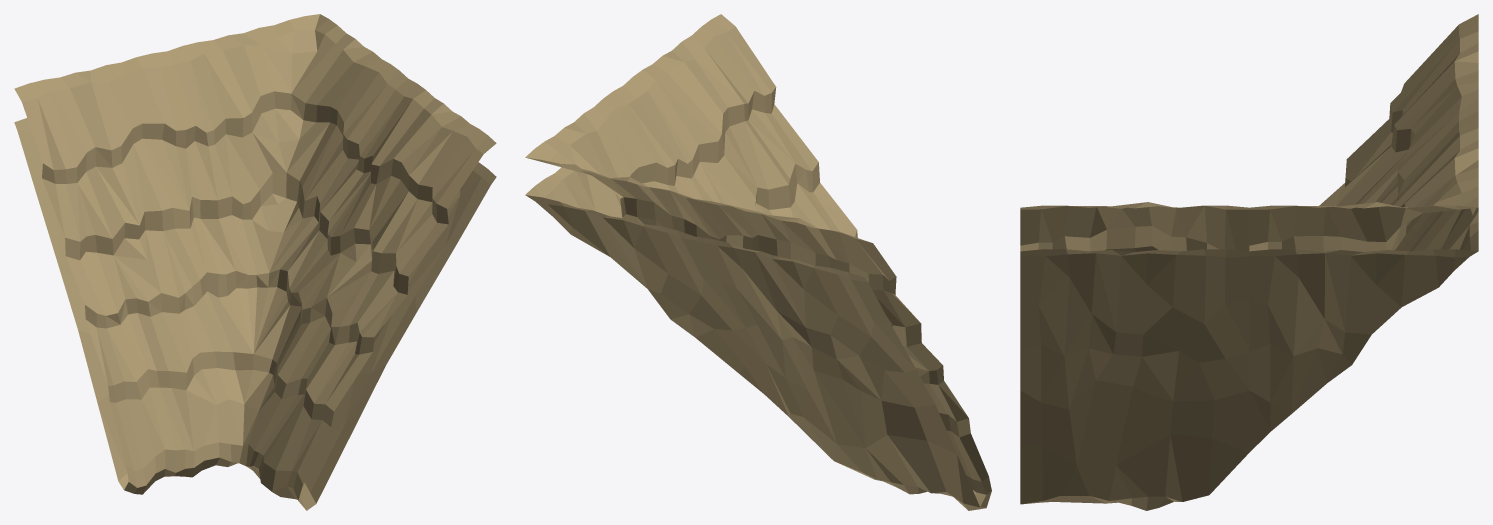
Rendered from rpgpp_ag_roof_02_6x5x3_corner_01.fbx.
3 renders of one model, left to right at view 1: azimuth 30°, elevation 25°; view 2: azimuth 150°, elevation 25°; view 3: azimuth 270°, elevation 25°, orthographic. The views are drawn at different scales.
Visible parts, largest first — view 1: rpgpp_ag_roof_02_6x5x3_corner_01; view 2: rpgpp_ag_roof_02_6x5x3_corner_01; view 3: rpgpp_ag_roof_02_6x5x3_corner_01.
Part boxes in pixels (x1=…): rpgpp_ag_roof_02_6x5x3_corner_01: x1=14, y1=14, x2=496, y2=510; rpgpp_ag_roof_02_6x5x3_corner_01: x1=525, y1=14, x2=991, y2=510; rpgpp_ag_roof_02_6x5x3_corner_01: x1=1020, y1=14, x2=1478, y2=510.
Bounding box in the file's own units: 6 × 6.2 × 6.
